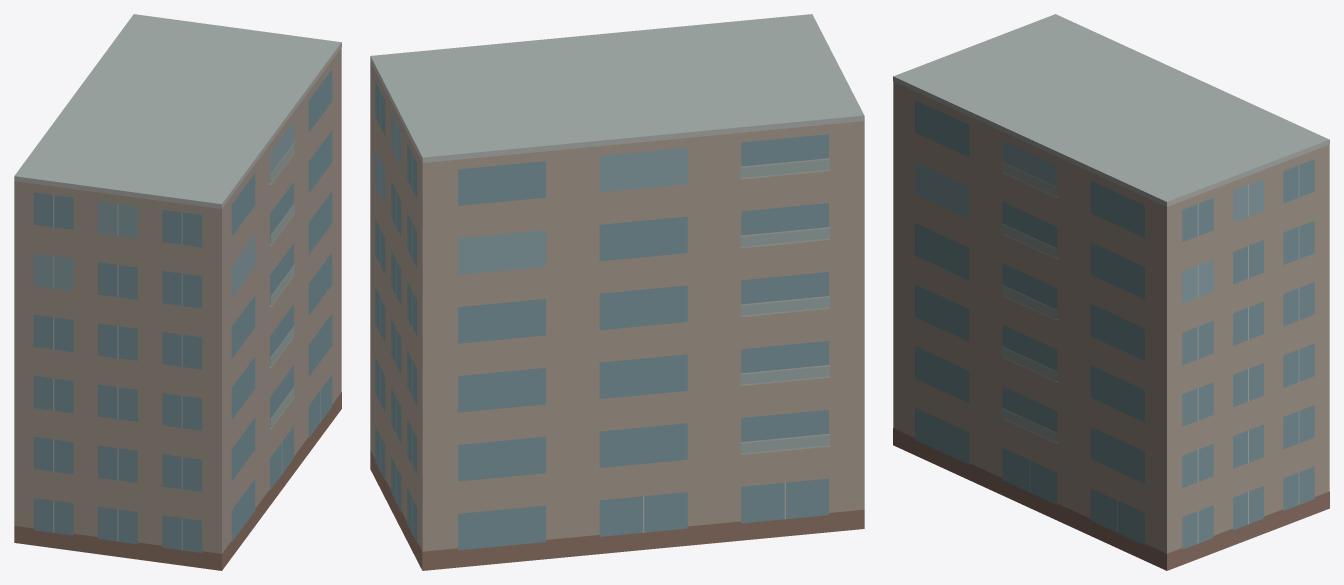
The model's file is survey-upis-32927764.glb.
The picture shows the model from 3 angles, left to right: view 1: azimuth 30°, elevation 25°; view 2: azimuth 150°, elevation 25°; view 3: azimuth 270°, elevation 25°; orthographic projection. The views are drawn at different scales.
Visible parts, largest first — view 1: survey-upis-32927764.tmp; view 2: survey-upis-32927764.tmp; view 3: survey-upis-32927764.tmp.
Part boxes in pixels (x1,y1,x2,y2): survey-upis-32927764.tmp: [14, 14, 341, 570]; survey-upis-32927764.tmp: [370, 14, 864, 570]; survey-upis-32927764.tmp: [893, 14, 1329, 570].
Bounding box in the file's own units: 20.01 × 18.3 × 19.63.
